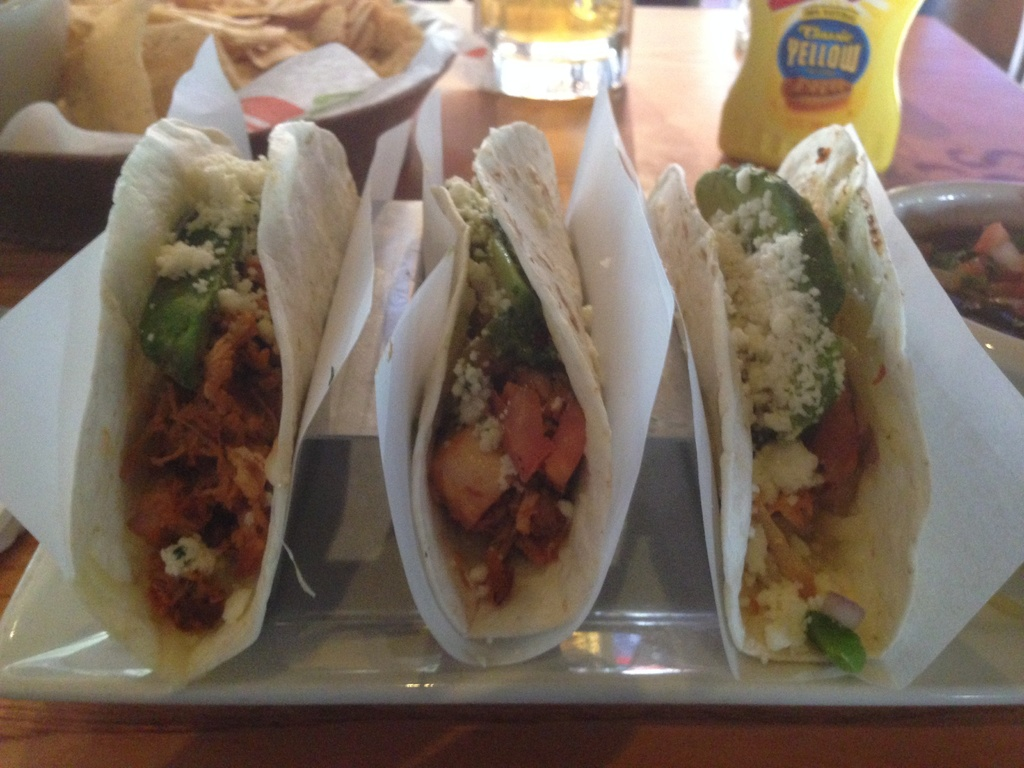taco: (70, 113, 360, 693), (645, 124, 934, 660), (409, 118, 610, 643)
